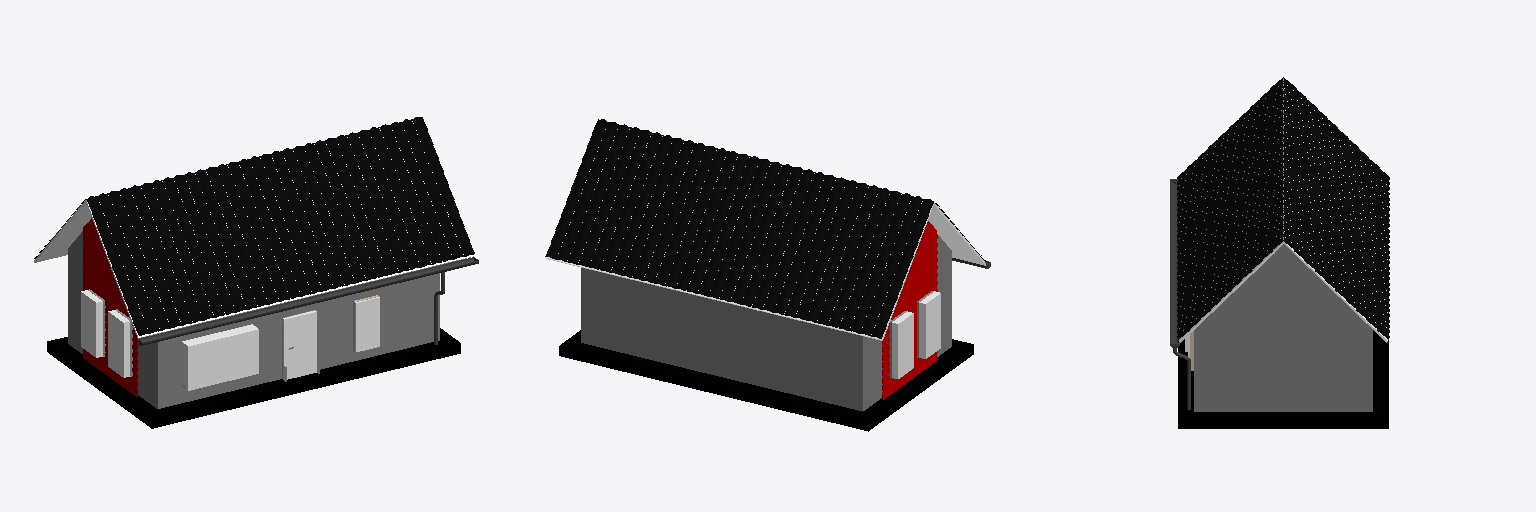
Rendered from Einfamilienhaus.old.obj.
3 renders of one model, left to right at view 1: azimuth 30°, elevation 25°; view 2: azimuth 150°, elevation 25°; view 3: azimuth 270°, elevation 25°, orthographic.
Parts seen in each view (by area): view 1: Cube.002, Cube, Plane, CTRL_Hole.001, Cube.003, Cube.001, Circle, CTRL_Hole, CTRL_Hole.003, CTRL_Hole.004, CTRL_Hole.002; view 2: Cube.002, Cube, Plane, Cube.003, Cube.001, CTRL_Hole.004, CTRL_Hole.003; view 3: Cube.002, Cube, Plane, Cube.001, Circle.
Part boxes in pixels (left/top/right/bottom): Cube.002: left=34, top=117, right=474, bottom=335; Cube: left=68, top=231, right=439, bottom=408; Plane: left=47, top=328, right=460, bottom=428; CTRL_Hole.001: left=182, top=324, right=258, bottom=390; Cube.003: left=82, top=218, right=138, bottom=396; Cube.001: left=34, top=121, right=473, bottom=338; Circle: left=138, top=257, right=478, bottom=345; CTRL_Hole: left=282, top=311, right=316, bottom=379; CTRL_Hole.003: left=81, top=290, right=102, bottom=357; CTRL_Hole.004: left=108, top=310, right=129, bottom=377; CTRL_Hole.002: left=355, top=297, right=379, bottom=351; Cube.002: left=545, top=119, right=986, bottom=338; Cube: left=581, top=234, right=951, bottom=411; Plane: left=559, top=330, right=973, bottom=431; Cube.003: left=882, top=221, right=937, bottom=399; Cube.001: left=546, top=129, right=985, bottom=340; CTRL_Hole.004: left=919, top=291, right=940, bottom=358; CTRL_Hole.003: left=892, top=311, right=913, bottom=378; Cube.002: left=1177, top=77, right=1389, bottom=339; Cube: left=1194, top=244, right=1372, bottom=411; Plane: left=1178, top=281, right=1388, bottom=428; Cube.001: left=1179, top=78, right=1387, bottom=342; Circle: left=1170, top=179, right=1179, bottom=347.
Size of the model in its own units: 7.13 by 3.96 by 4.04.